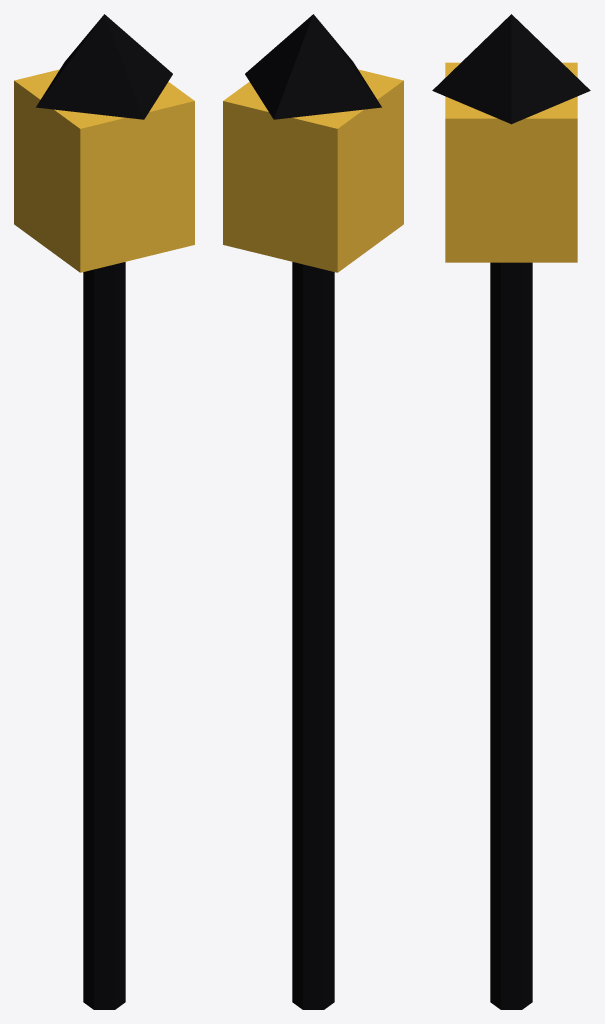
The model's file is Prop_OR_Lantern_04.glb.
3 views of the same model, side by side, from view 1: azimuth 30°, elevation 25°; view 2: azimuth 150°, elevation 25°; view 3: azimuth 270°, elevation 25° (orthographic).
Parts seen in each view (by area): view 1: Prop_OR_Lantern_04; view 2: Prop_OR_Lantern_04; view 3: Prop_OR_Lantern_04.
Part boxes in pixels (x1=…): Prop_OR_Lantern_04: x1=14, y1=14, x2=194, y2=1009; Prop_OR_Lantern_04: x1=223, y1=14, x2=403, y2=1009; Prop_OR_Lantern_04: x1=432, y1=14, x2=590, y2=1009.
Bounding box in the file's own units: 0.3 × 2.06 × 0.3.
